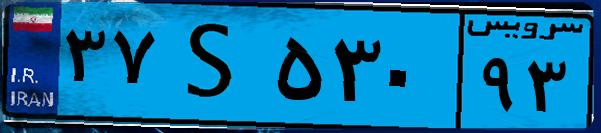0: (385, 28, 445, 110)
3: (330, 28, 385, 110), (57, 26, 110, 100), (525, 38, 570, 115)
5: (270, 28, 330, 110)
7: (110, 28, 158, 98)
9: (475, 38, 525, 113)
S: (158, 12, 270, 120)
